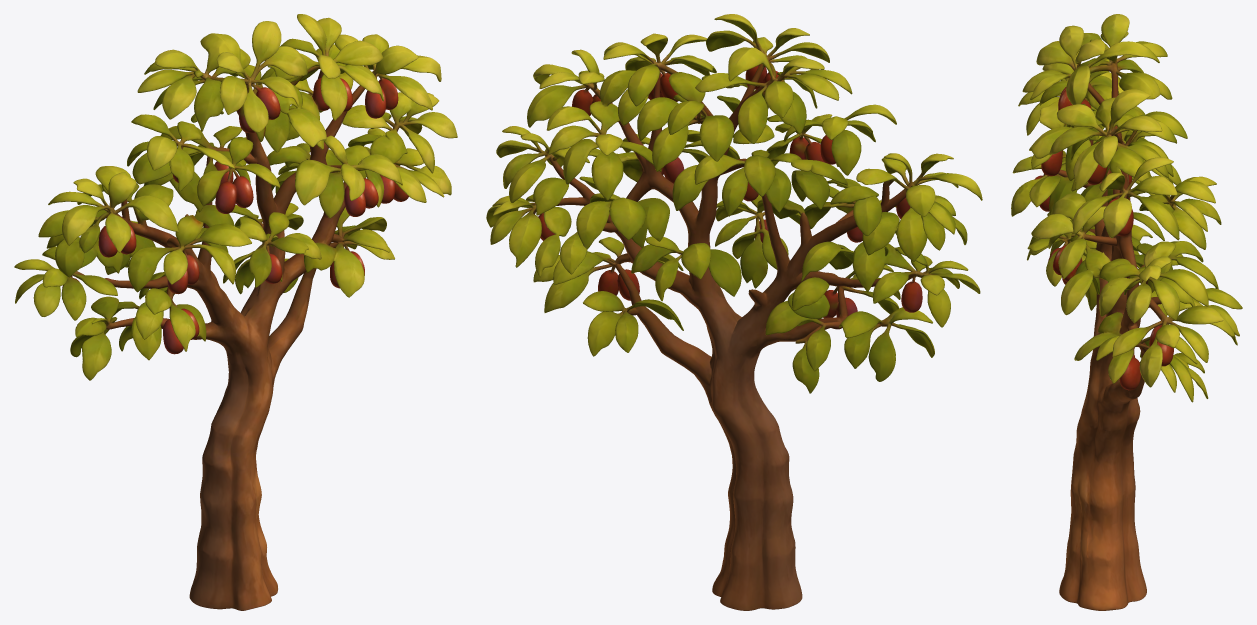
Rendered from jujube-tree.glb.
3 views of the same model, side by side, from view 1: azimuth 30°, elevation 25°; view 2: azimuth 150°, elevation 25°; view 3: azimuth 270°, elevation 25° (orthographic).
Visible parts, largest first — view 1: tripo_node_e7efe8d9-fc04-4d46-866c-2ff7b5915858; view 2: tripo_node_e7efe8d9-fc04-4d46-866c-2ff7b5915858; view 3: tripo_node_e7efe8d9-fc04-4d46-866c-2ff7b5915858.
Boxes of the visible parts, x1,y1,x2,y2 form: tripo_node_e7efe8d9-fc04-4d46-866c-2ff7b5915858: [14, 14, 457, 610]; tripo_node_e7efe8d9-fc04-4d46-866c-2ff7b5915858: [486, 14, 982, 610]; tripo_node_e7efe8d9-fc04-4d46-866c-2ff7b5915858: [1011, 14, 1242, 610].
Bounding box in the file's own units: 0.8349 × 1 × 0.3721.
1 material, 1 textured.
